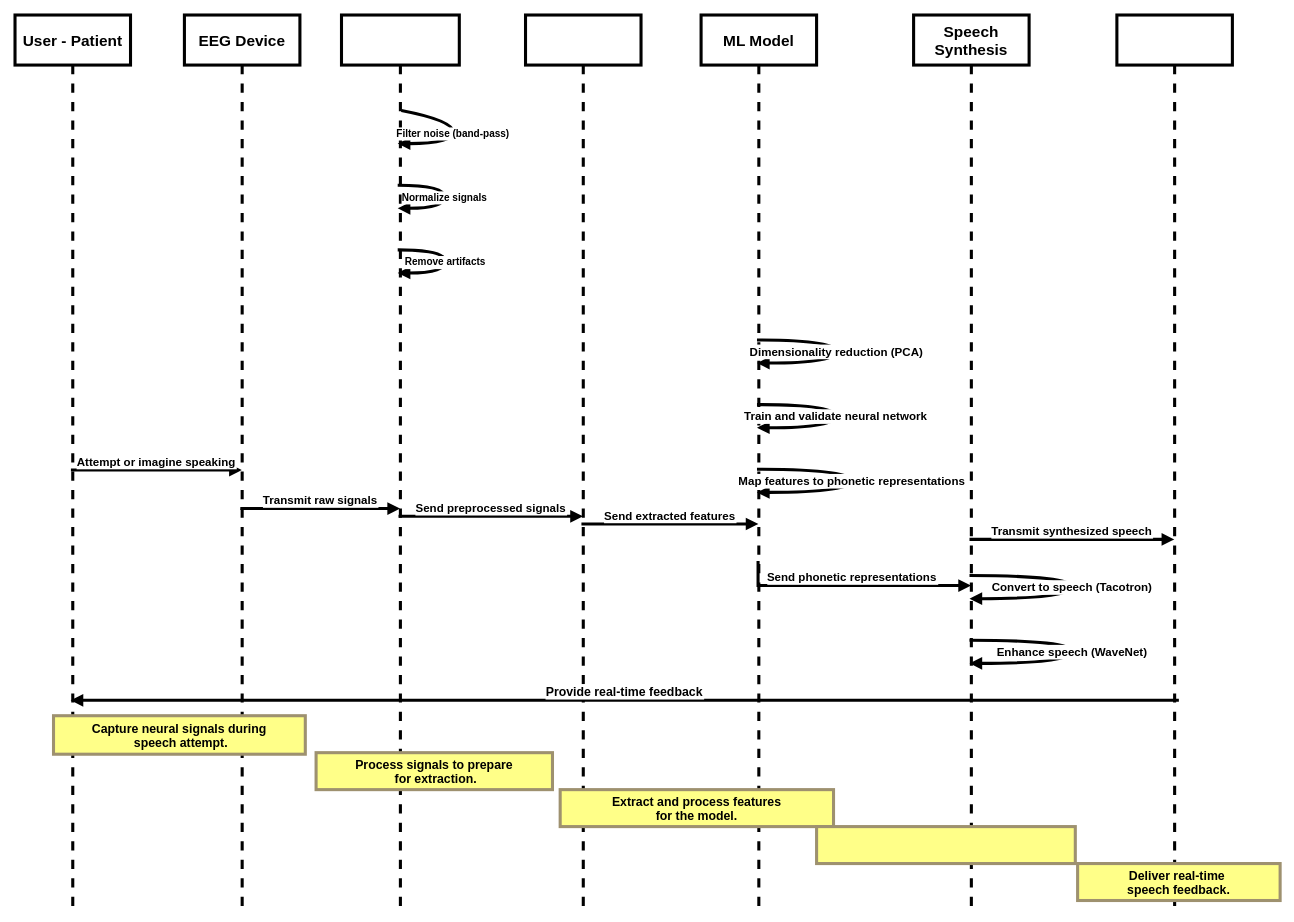
This 1294x922 diagram has some shape labels left out. Here are the shapes that lost their labels. From the top down, the box of each, then its label:
(340, 13, 460, 909): Preprocessing Unit
(524, 13, 642, 909): Feature Extraction
(1115, 13, 1234, 909): Output Device
(815, 825, 1076, 865): Translate features to phonetics and synthesize speech.
